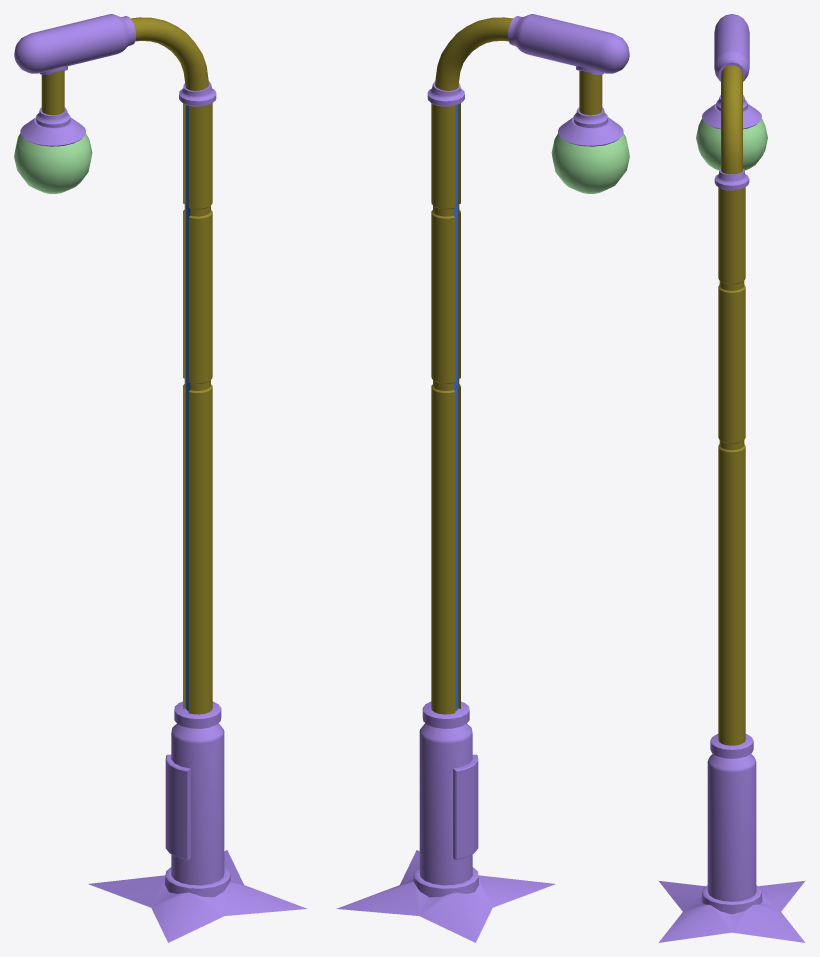
Rendered from SM_SecurityCameraJose01.fbx.
3 views of the same model, side by side, from view 1: azimuth 30°, elevation 25°; view 2: azimuth 150°, elevation 25°; view 3: azimuth 270°, elevation 25° (orthographic). The views are drawn at different scales.
Visible parts, largest first — view 1: SecurityCamera01_A_low, SecurityCamera01_B_low, SecurityCamera01_C_low, SecurityCamera01_D_low; view 2: SecurityCamera01_A_low, SecurityCamera01_B_low, SecurityCamera01_C_low, SecurityCamera01_D_low; view 3: SecurityCamera01_B_low, SecurityCamera01_A_low, SecurityCamera01_C_low.
Part boxes in pixels (left/top/right/bottom): SecurityCamera01_A_low: left=14, top=14, right=307, bottom=942; SecurityCamera01_B_low: left=41, top=17, right=212, bottom=714; SecurityCamera01_C_low: left=14, top=133, right=92, bottom=193; SecurityCamera01_D_low: left=185, top=104, right=190, bottom=710; SecurityCamera01_A_low: left=336, top=14, right=629, bottom=942; SecurityCamera01_B_low: left=431, top=17, right=602, bottom=714; SecurityCamera01_C_low: left=551, top=133, right=629, bottom=193; SecurityCamera01_D_low: left=453, top=104, right=458, bottom=710; SecurityCamera01_B_low: left=718, top=65, right=745, bottom=745; SecurityCamera01_A_low: left=658, top=14, right=805, bottom=942; SecurityCamera01_C_low: left=696, top=118, right=767, bottom=170.
Bounding box in the file's own units: 151 × 517 × 83.78.
